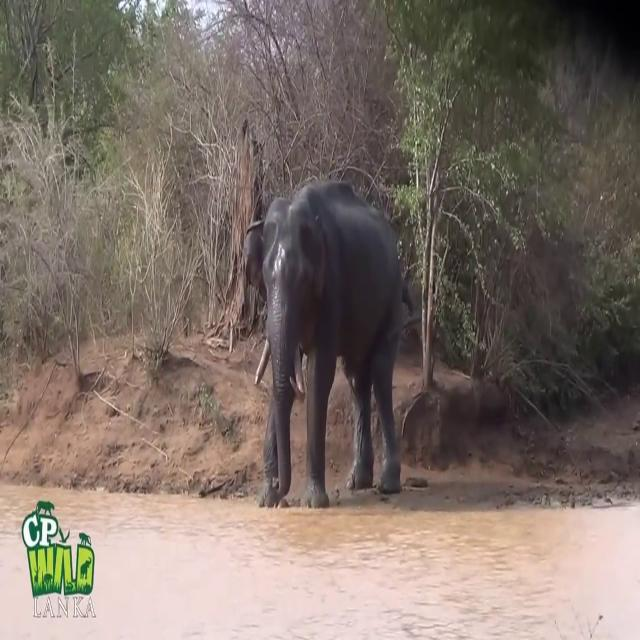Elephant: (242, 178, 414, 508)
